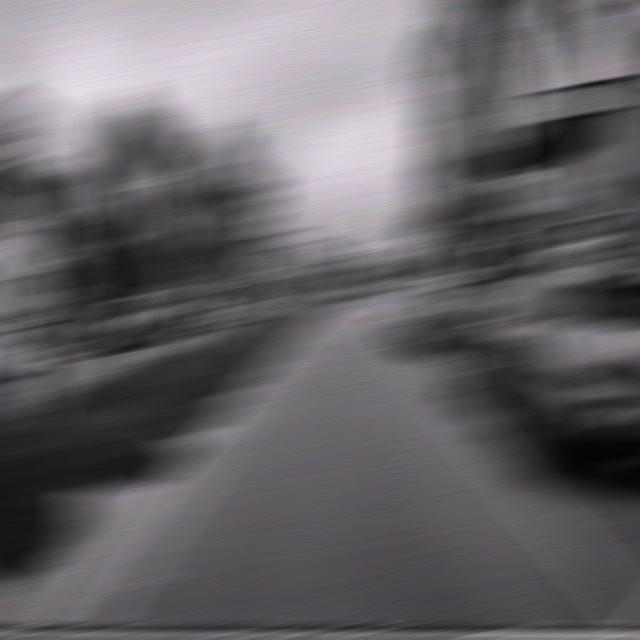speedLimit25: (422, 223, 456, 248)
